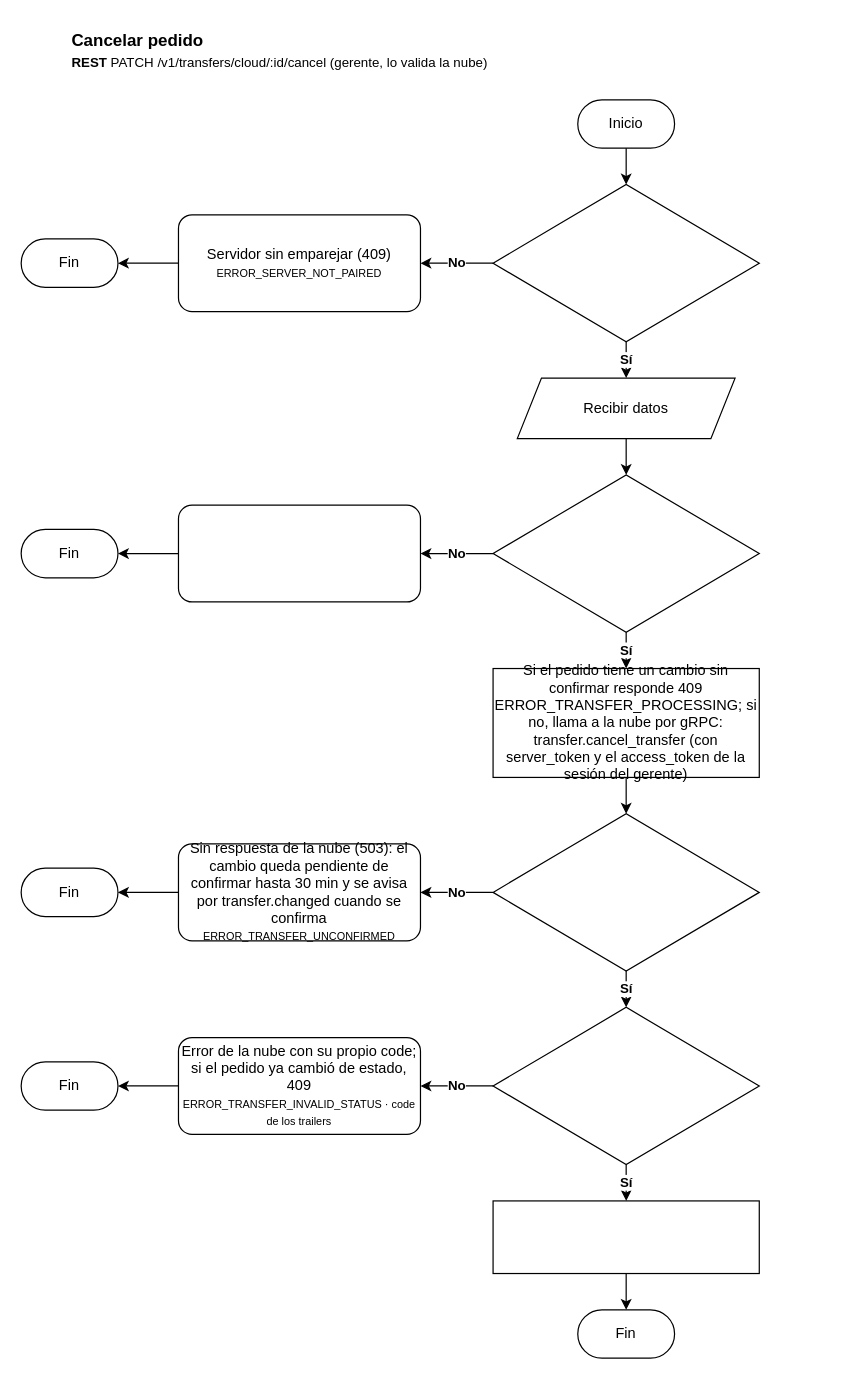
Some shapes in this 865 by 1379 pixel diagram are drawn without their labels. The centre of each missing label's shape, as x and y in pixels:
"Datos inválidos (400) ERROR_BAD_REQUEST" belongs at point (298, 553).
"Responder 200 con el mensaje TRANSFER_CANCELLED" belongs at point (625, 1237).
"¿El servidor ya se emparejó alguna vez (pairing_status distinto de unpaired)?" belongs at point (625, 262).
"¿La nube acepta la petición?" belongs at point (625, 1085).
"¿La nube responde antes de 10 s?" belongs at point (625, 892).
"¿Los datos son válidos?" belongs at point (625, 553).
